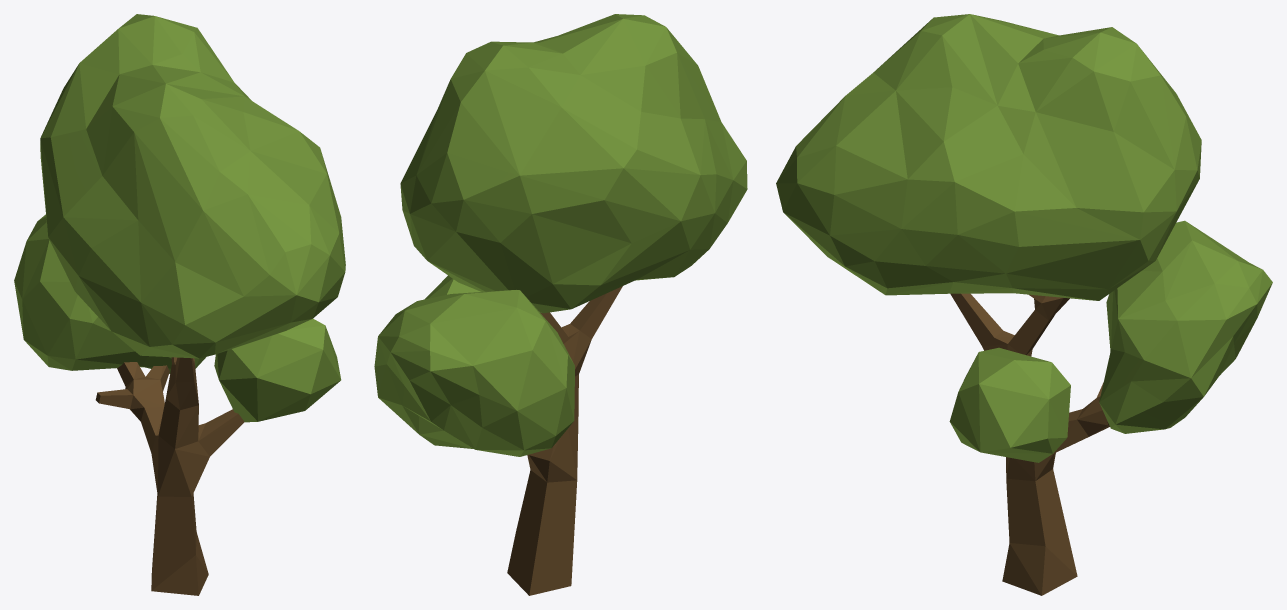
Rendered from Tree_10.glb.
3 views of the same model, side by side, from view 1: azimuth 30°, elevation 25°; view 2: azimuth 150°, elevation 25°; view 3: azimuth 270°, elevation 25° (orthographic). The views are drawn at different scales.
Parts seen in each view (by area): view 1: Tree_10_LOD0; view 2: Tree_10_LOD0; view 3: Tree_10_LOD0.
Boxes of the visible parts, x1,y1,x2,y2 form: Tree_10_LOD0: (14,14,345,595); Tree_10_LOD0: (374,14,747,595); Tree_10_LOD0: (776,14,1272,595).
Size of what is drawn, in the model's own units: 2.51 by 4.66 by 3.8.
Materials: 1 (1 with a texture image).
